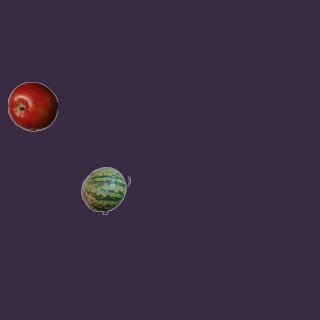Apple Braeburn: (7, 81, 57, 131)
Watermelon: (80, 165, 130, 215)
